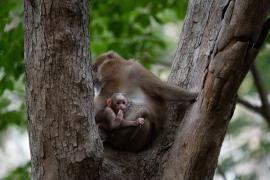monkey: (87, 49, 204, 155), (88, 88, 148, 136)
